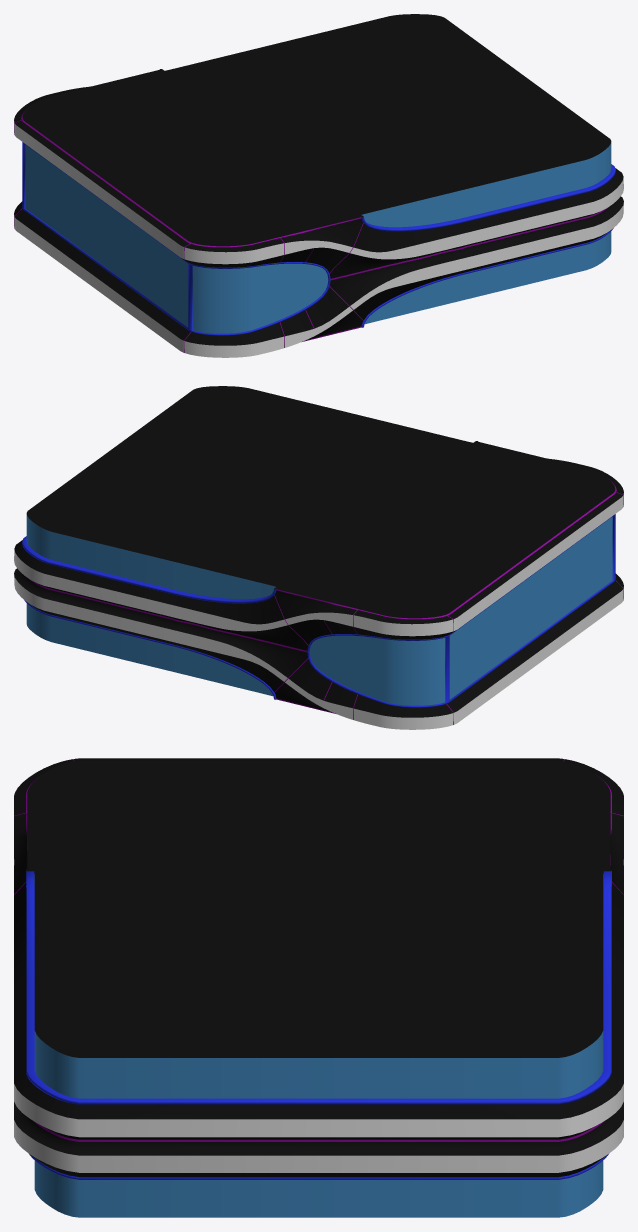
Rendered from SM_Building_MK3_Middle_01.fbx.
The picture shows the model from 3 angles, top to bottom: view 1: azimuth 30°, elevation 25°; view 2: azimuth 150°, elevation 25°; view 3: azimuth 270°, elevation 25°; orthographic projection. The views are drawn at different scales.
Visible parts, largest first — view 1: Middle_01; view 2: Middle_01; view 3: Middle_01.
Boxes of the visible parts, x1=… form: Middle_01: x1=14, y1=14, x2=623, y2=357; Middle_01: x1=14, y1=386, x2=623, y2=729; Middle_01: x1=14, y1=758, x2=623, y2=1217.
Size of the model in its own units: 2092 by 500 by 1731.
